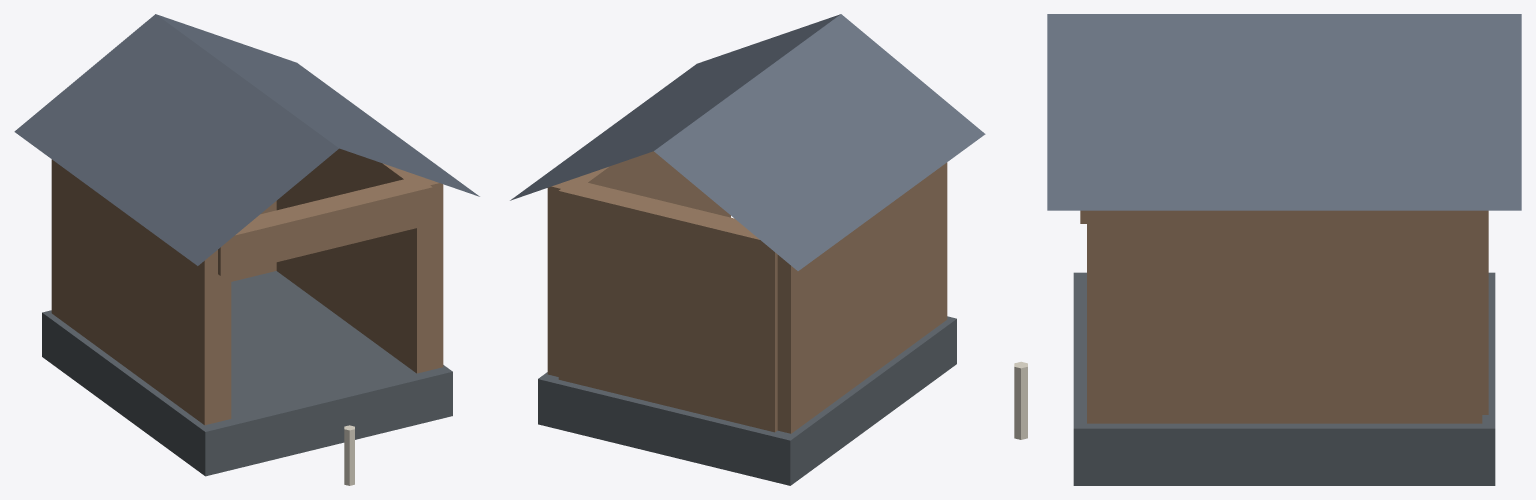
The model's file is haunted_doghouse.glb.
3 renders of one model, left to right at view 1: azimuth 30°, elevation 25°; view 2: azimuth 150°, elevation 25°; view 3: azimuth 270°, elevation 25°, orthographic. The views are drawn at different scales.
Parts seen in each view (by area): view 1: Haunted_Doghouse; view 2: Haunted_Doghouse; view 3: Haunted_Doghouse.
Boxes of the visible parts, left/top/right/bottom form: Haunted_Doghouse: left=14, top=14, right=479, bottom=485; Haunted_Doghouse: left=510, top=14, right=985, bottom=485; Haunted_Doghouse: left=1014, top=14, right=1521, bottom=485.
Bounding box in the file's own units: 1.6 × 1.77 × 1.93.
